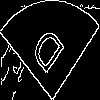D: (24, 24, 67, 83)
